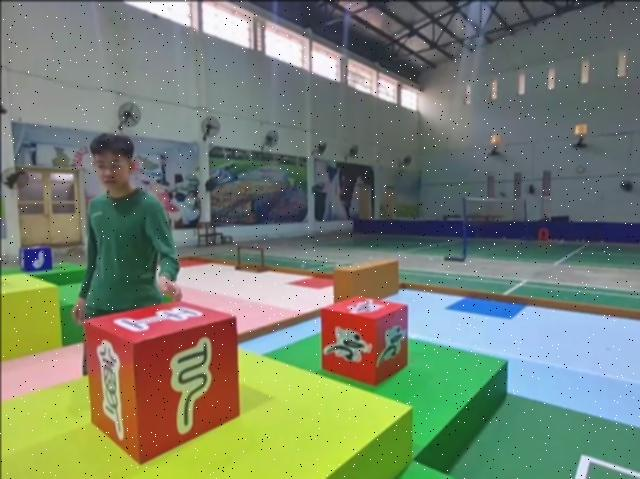R1: (316, 294, 416, 384)
R2 Fake: (83, 301, 245, 463)
